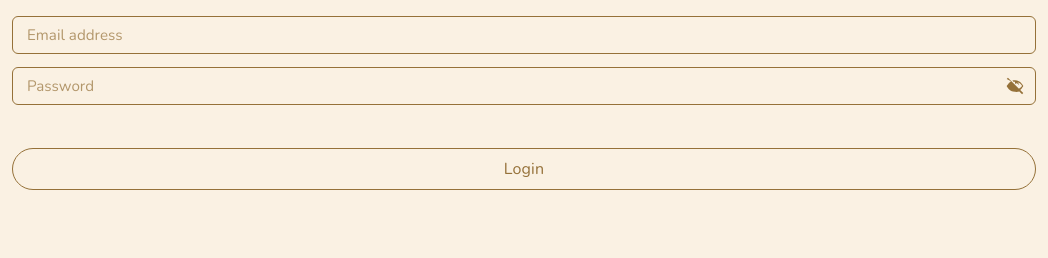
AuthForm validation and submit › shows validation errors and does not submit
Click the button with test id "auth-submit".
click(524, 169)  # box [12,148,1036,190]
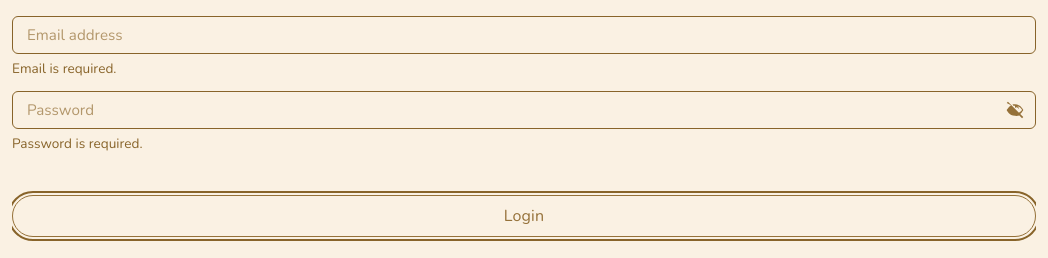
expect the text "Email is required." is shown: met, box [12,59,116,78]
expect the text "Password is required." is shown: met, box [12,134,142,153]
